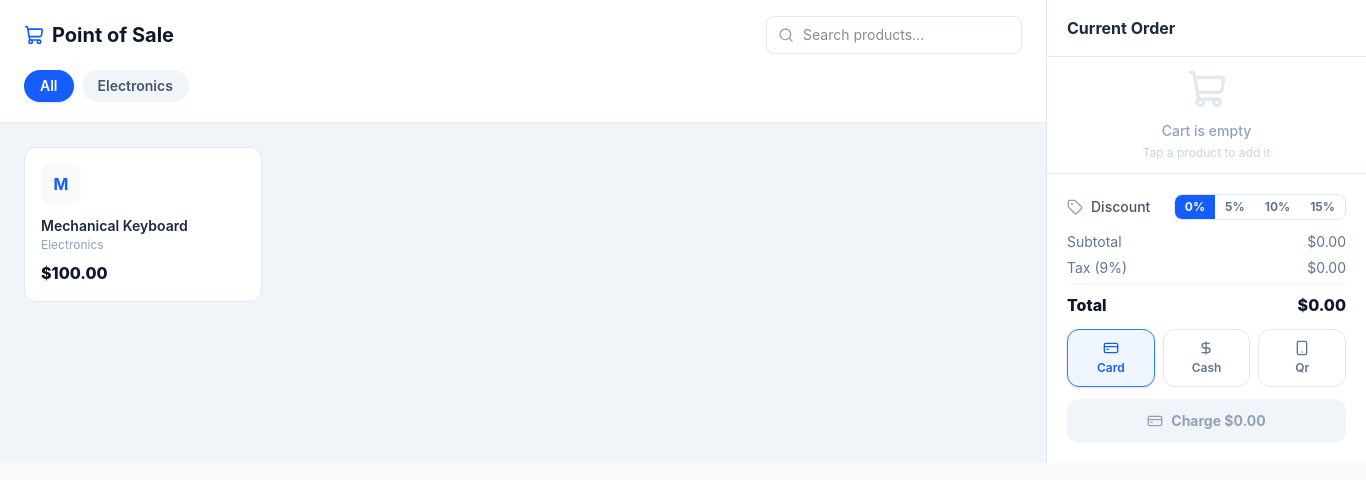
Test: POS Component › handles checkout process
The image size is (1366, 480).
Click the text "Mechanical Keyboard": (114, 226) [41,217,188,234]
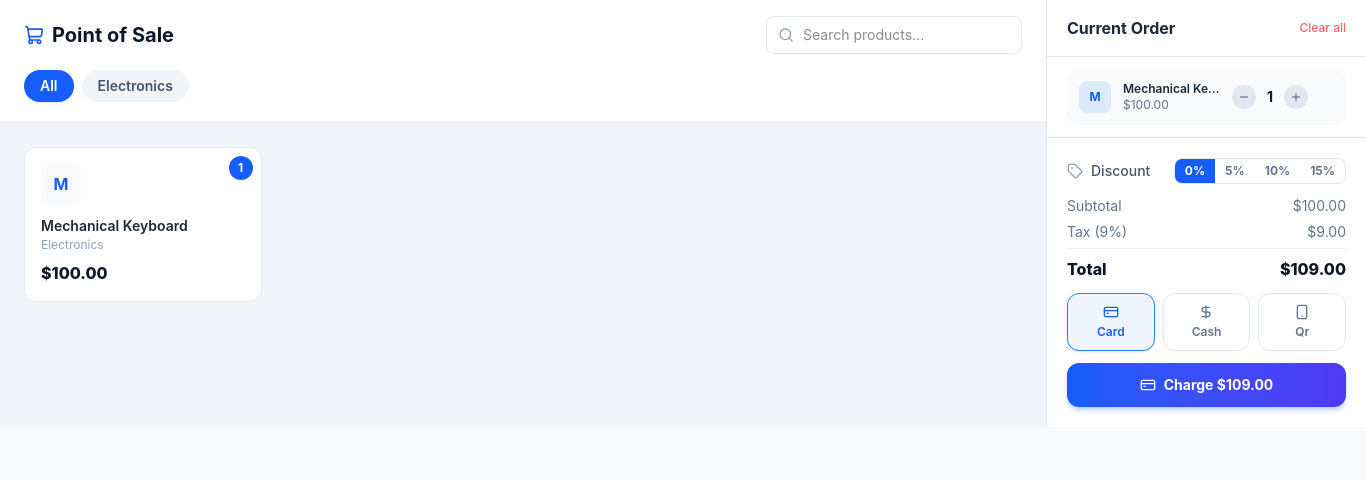
Click the button "Charge $109.00": (1206, 385) [1067,363,1346,407]
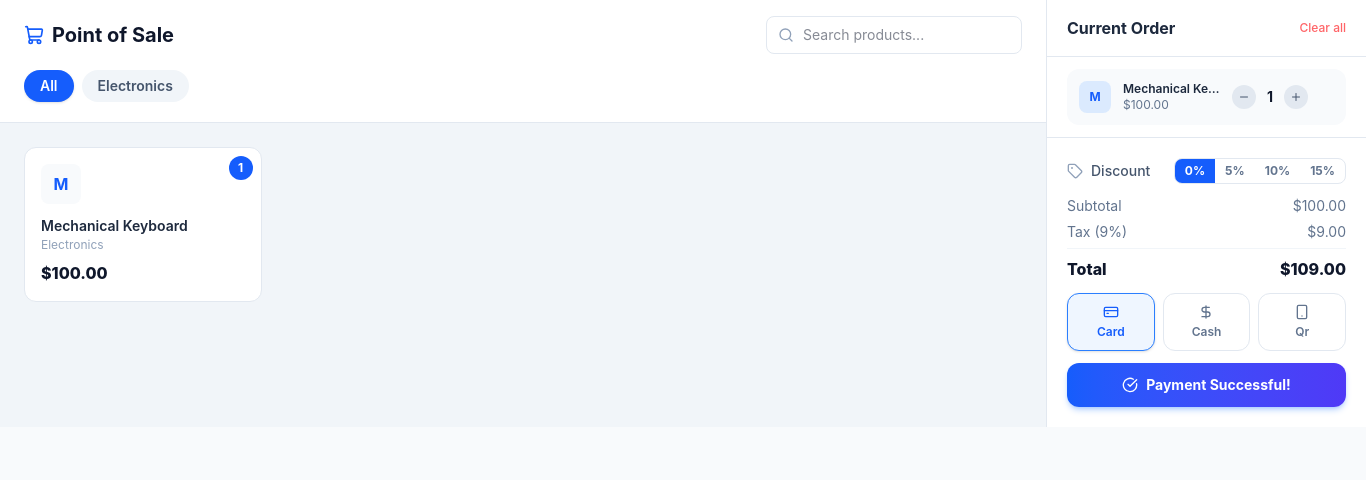
expect the text "Payment Successful!" is shown: met, box [1146,375,1291,395]
